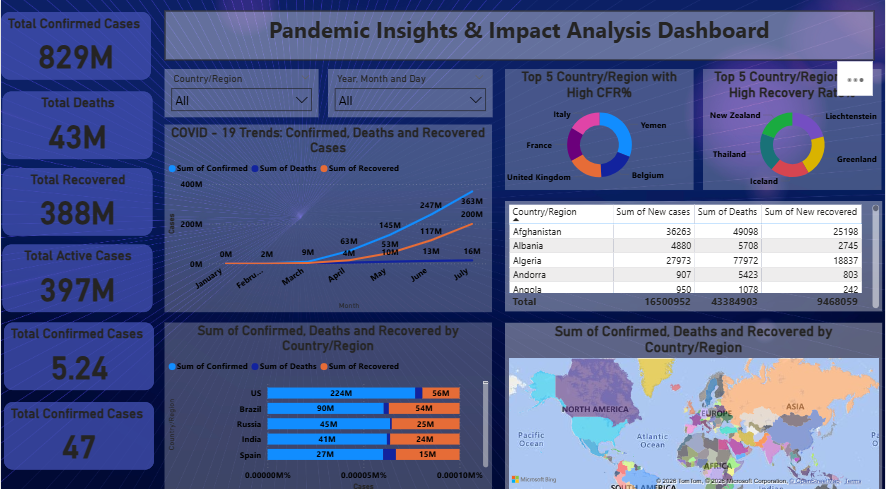

The page's visual inventory and layout, read from the dashboard file:
{"tool":"powerbi","page":{"name":"Page 1","canvas":[1280,720],"ordinal":0},"visuals":[{"type":"card","title":"Total Confirmed Cases","fields":{"Values":["Sum(COVID19_Dataset.Confirmed)"]},"box":[0,20.8,217.3,98.3],"z":0},{"type":"card","title":"Total Deaths","fields":{"Values":["Sum(COVID19_Dataset.Deaths)"]},"box":[1.9,136.1,217.3,98.3],"z":1000},{"type":"card","title":"Total Recovered","fields":{"Values":["Sum(COVID19_Dataset.Recovered)"]},"box":[1.9,247.6,217.3,98.3],"z":2000},{"type":"card","title":"Total Active Cases","fields":{"Values":["Sum(COVID19_Dataset.Active)"]},"box":[1.9,359.1,217.3,98.3],"z":3000},{"type":"card","title":"Total Confirmed Cases","fields":{"Values":["COVID19_Dataset.CFR RATE"]},"box":[3.8,472.4,217.3,98.3],"z":4000},{"type":"card","title":"Total Confirmed Cases","fields":{"Values":["COVID19_Dataset.Recovery Rate"]},"box":[3.8,587.7,217.3,98.3],"z":5000},{"type":"lineChart","title":"COVID - 19 Trends: Confirmed, Deaths and Recovered Cases","fields":{"Category":["COVID19_Dataset.Date.Variation.Date Hierarchy.Month"],"Y":["Sum(COVID19_Dataset.Confirmed)","Sum(COVID19_Dataset.Deaths)","Sum(COVID19_Dataset.Recovered)"]},"box":[236.2,185.2,474.3,272.1],"z":6000},{"type":"donutChart","title":"Top 5 Country/Region with High CFR%","fields":{"Category":["COVID19_Dataset.Country/Region"],"Y":["COVID19_Dataset.CFR RATE"]},"box":[730,105,273.3,175],"z":7000},{"type":"donutChart","title":"Top 5 Country/Region with High Recovery Rate%","fields":{"Category":["COVID19_Dataset.Country/Region"],"Y":["COVID19_Dataset.Recovery Rate"]},"box":[1018.3,105,258.3,175],"z":8000},{"type":"hundredPercentStackedBarChart","title":"Sum of Confirmed, Deaths and Recovered by Country/Region","fields":{"Y":["Sum(COVID19_Dataset.Confirmed)","Sum(COVID19_Dataset.Deaths)","Sum(COVID19_Dataset.Recovered)"],"Category":["COVID19_Dataset.Country/Region"]},"box":[236.2,472.4,474.3,247.6],"z":9000},{"type":"filledMap","title":"Sum of Confirmed, Deaths and Recovered by Country/Region","fields":{"Series":["COVID19_Dataset.Country/Region"],"Category":["COVID19_Dataset.Country/Region"]},"box":[730,471.7,546.7,246.7],"z":10000},{"type":"tableEx","title":"COVID - 19 Trends: Confirmed, Deaths and Recovered Cases","fields":{"Values":["COVID19_Dataset.Country/Region","Sum(COVID19_Dataset.New cases)","Sum(COVID19_Dataset.Deaths)","Sum(COVID19_Dataset.New recovered)"]},"box":[730,296.7,546.7,160],"z":11000},{"type":"slicer","fields":{"Values":["COVID19_Dataset.Country/Region"]},"box":[236.7,105,223.3,70],"z":12000},{"type":"slicer","fields":{"Values":["COVID19_Dataset.Date"]},"box":[473.3,105,238.3,70],"z":13000},{"type":"textbox","box":[236.7,20,1028.3,71.7],"z":14000}]}

Visuals, with their boxes in screenshot pixels (x1, y1, x2, y2), scaled from the page's 1280x720 canvas onto the 886x489 screenshot:
"Total Confirmed Cases" card: {"left": 0, "top": 14, "right": 150, "bottom": 81}
"Total Deaths" card: {"left": 1, "top": 92, "right": 152, "bottom": 159}
"Total Recovered" card: {"left": 1, "top": 168, "right": 152, "bottom": 235}
"Total Active Cases" card: {"left": 1, "top": 244, "right": 152, "bottom": 311}
"Total Confirmed Cases" card: {"left": 3, "top": 321, "right": 153, "bottom": 388}
"Total Confirmed Cases" card: {"left": 3, "top": 399, "right": 153, "bottom": 466}
"COVID - 19 Trends: Confirmed, Deaths and Recovered Cases" lineChart: {"left": 163, "top": 126, "right": 492, "bottom": 311}
"Top 5 Country/Region with High CFR%" donutChart: {"left": 505, "top": 71, "right": 694, "bottom": 190}
"Top 5 Country/Region with High Recovery Rate%" donutChart: {"left": 705, "top": 71, "right": 884, "bottom": 190}
"Sum of Confirmed, Deaths and Recovered by Country/Region" hundredPercentStackedBarChart: {"left": 163, "top": 321, "right": 492, "bottom": 488}
"Sum of Confirmed, Deaths and Recovered by Country/Region" filledMap: {"left": 505, "top": 320, "right": 884, "bottom": 488}
"COVID - 19 Trends: Confirmed, Deaths and Recovered Cases" tableEx: {"left": 505, "top": 202, "right": 884, "bottom": 310}
slicer - COVID19_Dataset.Country/Region: {"left": 164, "top": 71, "right": 318, "bottom": 119}
slicer - COVID19_Dataset.Date: {"left": 328, "top": 71, "right": 493, "bottom": 119}
textbox: {"left": 164, "top": 14, "right": 876, "bottom": 62}
